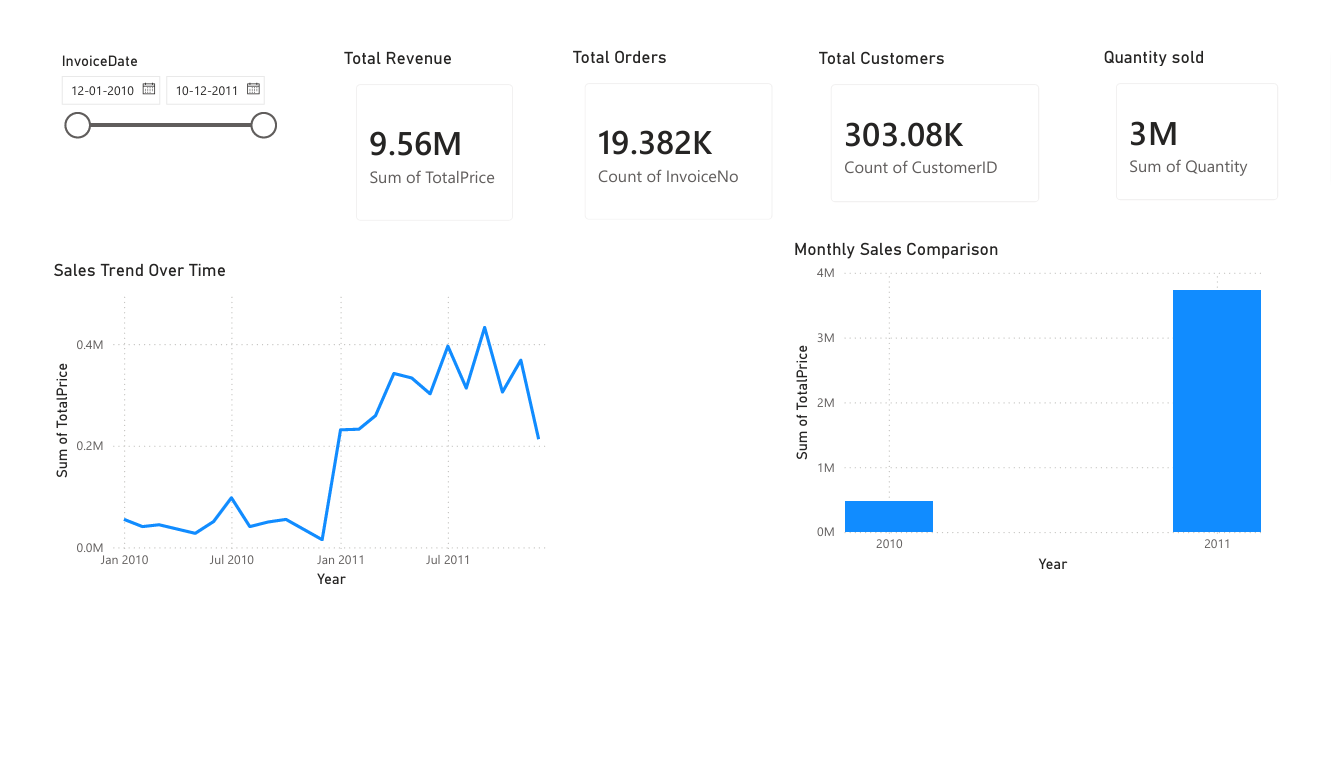

Layout of this report page (visuals, bound fields, positions):
{"tool":"powerbi","page":{"name":"sales trend analysis dashboard","canvas":[1280,720],"ordinal":1},"visuals":[{"type":"slicer","fields":{"Values":["data.InvoiceDate"]},"box":[30,30,231.4,185.7],"z":0},{"type":"lineChart","title":"Sales Trend Over Time","fields":{"Category":["data.InvoiceDate.Variation.Date Hierarchy.Year","data.InvoiceDate.Variation.Date Hierarchy.Month"],"Y":["Sum(data.TotalPrice)"]},"box":[30,236.7,505,325],"z":1000},{"type":"cardVisual","title":"Total Revenue","fields":{"Data":["Sum(data.TotalPrice)"]},"box":[312.9,30,187.1,187.1],"z":2000},{"type":"cardVisual","title":"Total Orders","fields":{"Data":["Count(data.InvoiceNo)"]},"box":[535.7,28.6,217.1,187.1],"z":3000},{"type":"cardVisual","title":"Quantity sold","fields":{"Data":["Sum(data.Quantity)"]},"box":[1054.3,28.6,191.4,168.6],"z":4000},{"type":"cardVisual","title":"Total Customers","fields":{"Data":["Count(data.CustomerID)"]},"box":[775.7,30,237.1,168.6],"z":5000},{"type":"clusteredColumnChart","title":"Monthly Sales Comparison","fields":{"Category":["data.InvoiceDate.Variation.Date Hierarchy.Year","data.InvoiceDate.Variation.Date Hierarchy.Month"],"Y":["Sum(data.TotalPrice)"]},"box":[751.7,216.7,465,330],"z":6000}]}

Visuals, with their boxes in screenshot pixels (x1, y1, x2, y2), scaled from the page's 1280x720 canvas onto the 1338x771 screenshot:
slicer - data.InvoiceDate: bbox=(31, 32, 273, 231)
"Sales Trend Over Time" lineChart: bbox=(31, 253, 559, 601)
"Total Revenue" cardVisual: bbox=(327, 32, 523, 232)
"Total Orders" cardVisual: bbox=(560, 31, 787, 231)
"Quantity sold" cardVisual: bbox=(1102, 31, 1302, 211)
"Total Customers" cardVisual: bbox=(811, 32, 1059, 213)
"Monthly Sales Comparison" clusteredColumnChart: bbox=(786, 232, 1272, 585)
